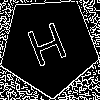H: (24, 21, 73, 77)
